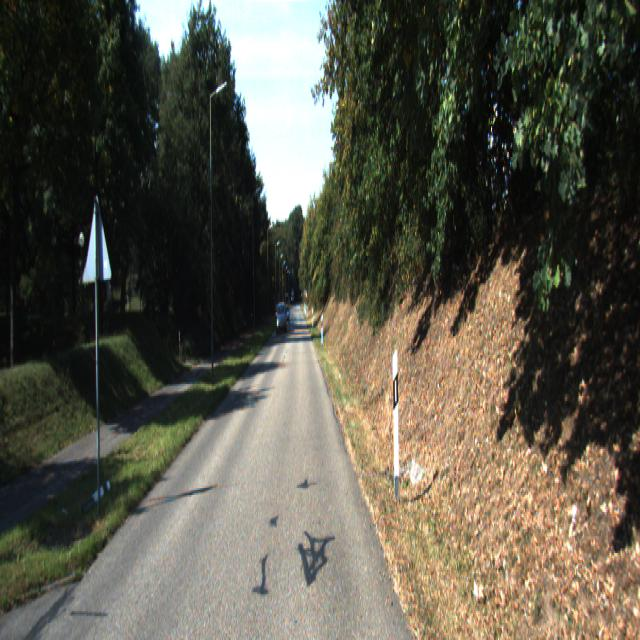Car: (276, 303, 287, 335)
